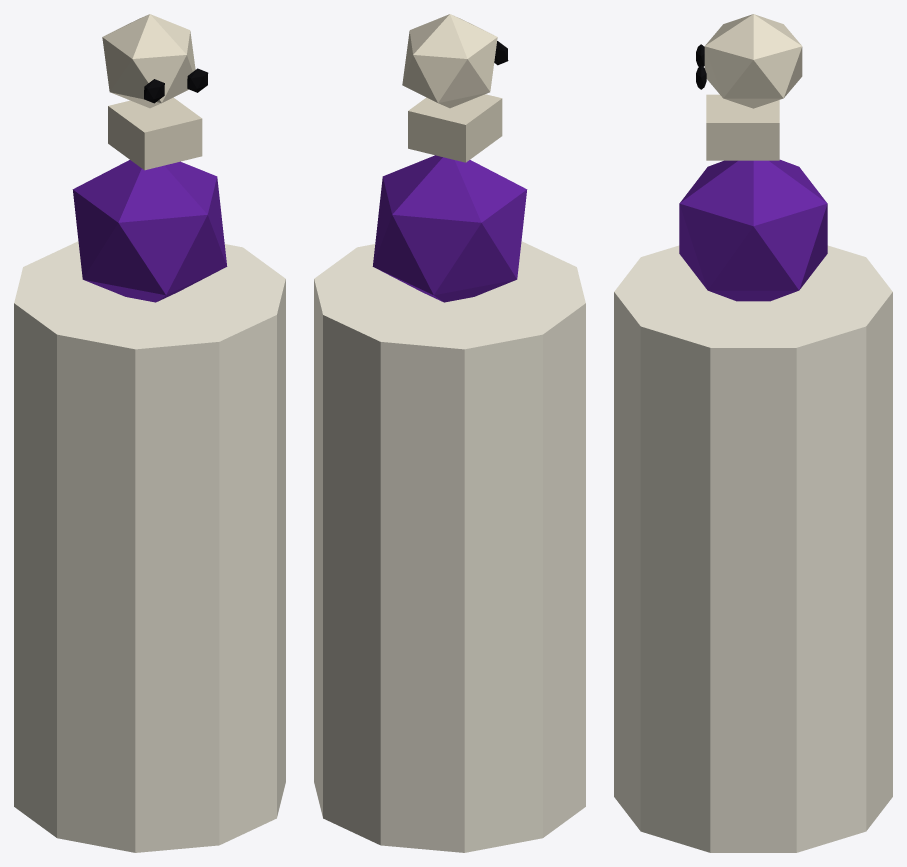
The model's file is Item_OR_Tonic_42.glb.
3 views of the same model, side by side, from view 1: azimuth 30°, elevation 25°; view 2: azimuth 150°, elevation 25°; view 3: azimuth 270°, elevation 25° (orthographic).
Parts seen in each view (by area): view 1: Item_OR_Tonic_42; view 2: Item_OR_Tonic_42; view 3: Item_OR_Tonic_42.
Boxes of the visible parts, x1,y1,x2,y2 form: Item_OR_Tonic_42: [14, 14, 285, 852]; Item_OR_Tonic_42: [314, 14, 585, 852]; Item_OR_Tonic_42: [614, 14, 892, 852].
Bounding box in the file's own units: 0.0761 × 0.248 × 0.08.
